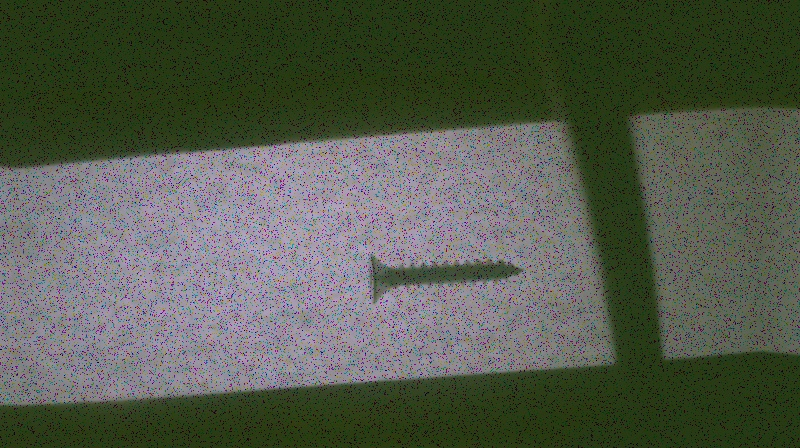S001: (364, 253, 528, 304)
